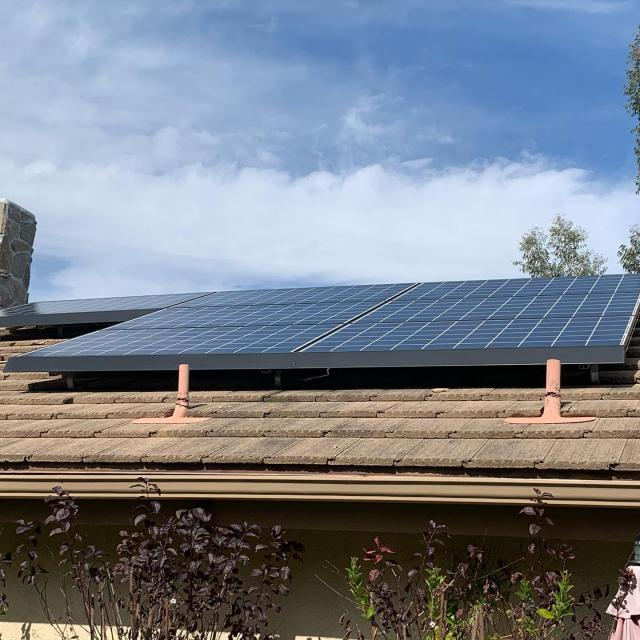clean-solar-panel: (20, 275, 640, 358)
